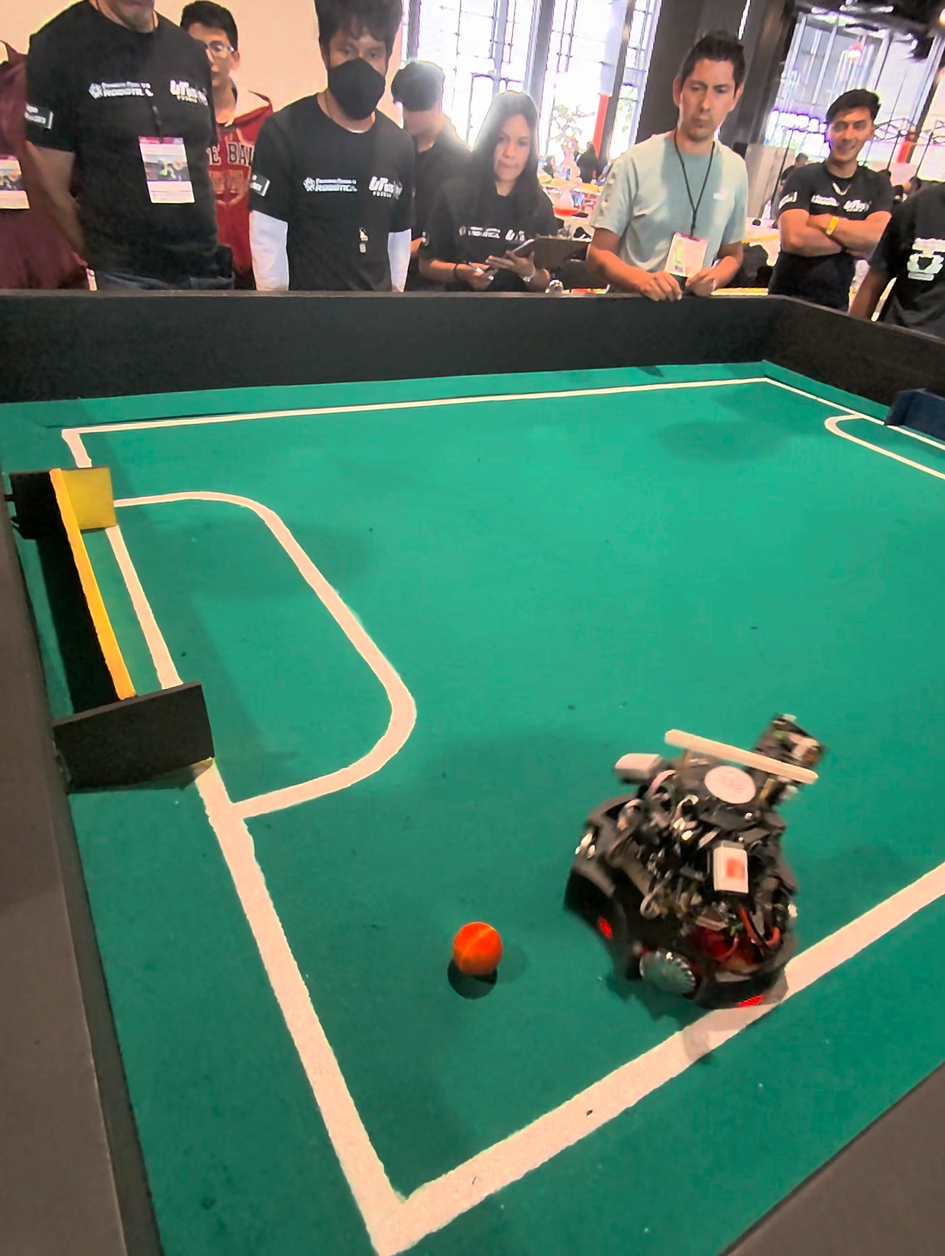Robot: (557, 711, 817, 1018)
pelota: (450, 925, 505, 994)
